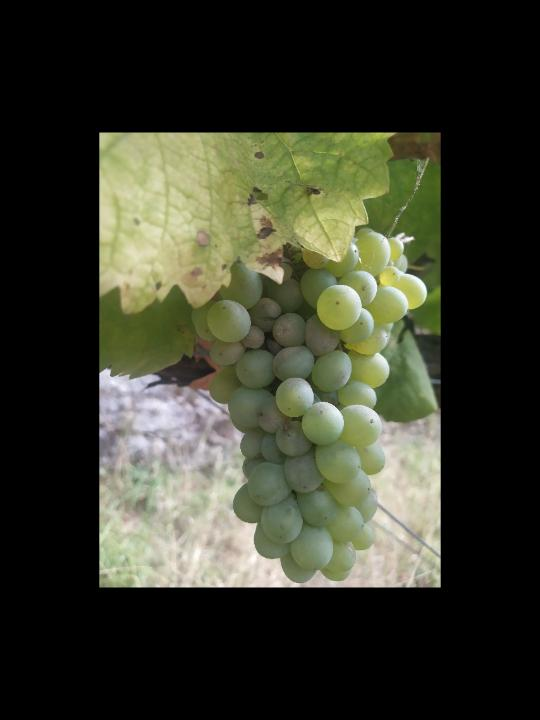grape: (191, 229, 429, 582)
